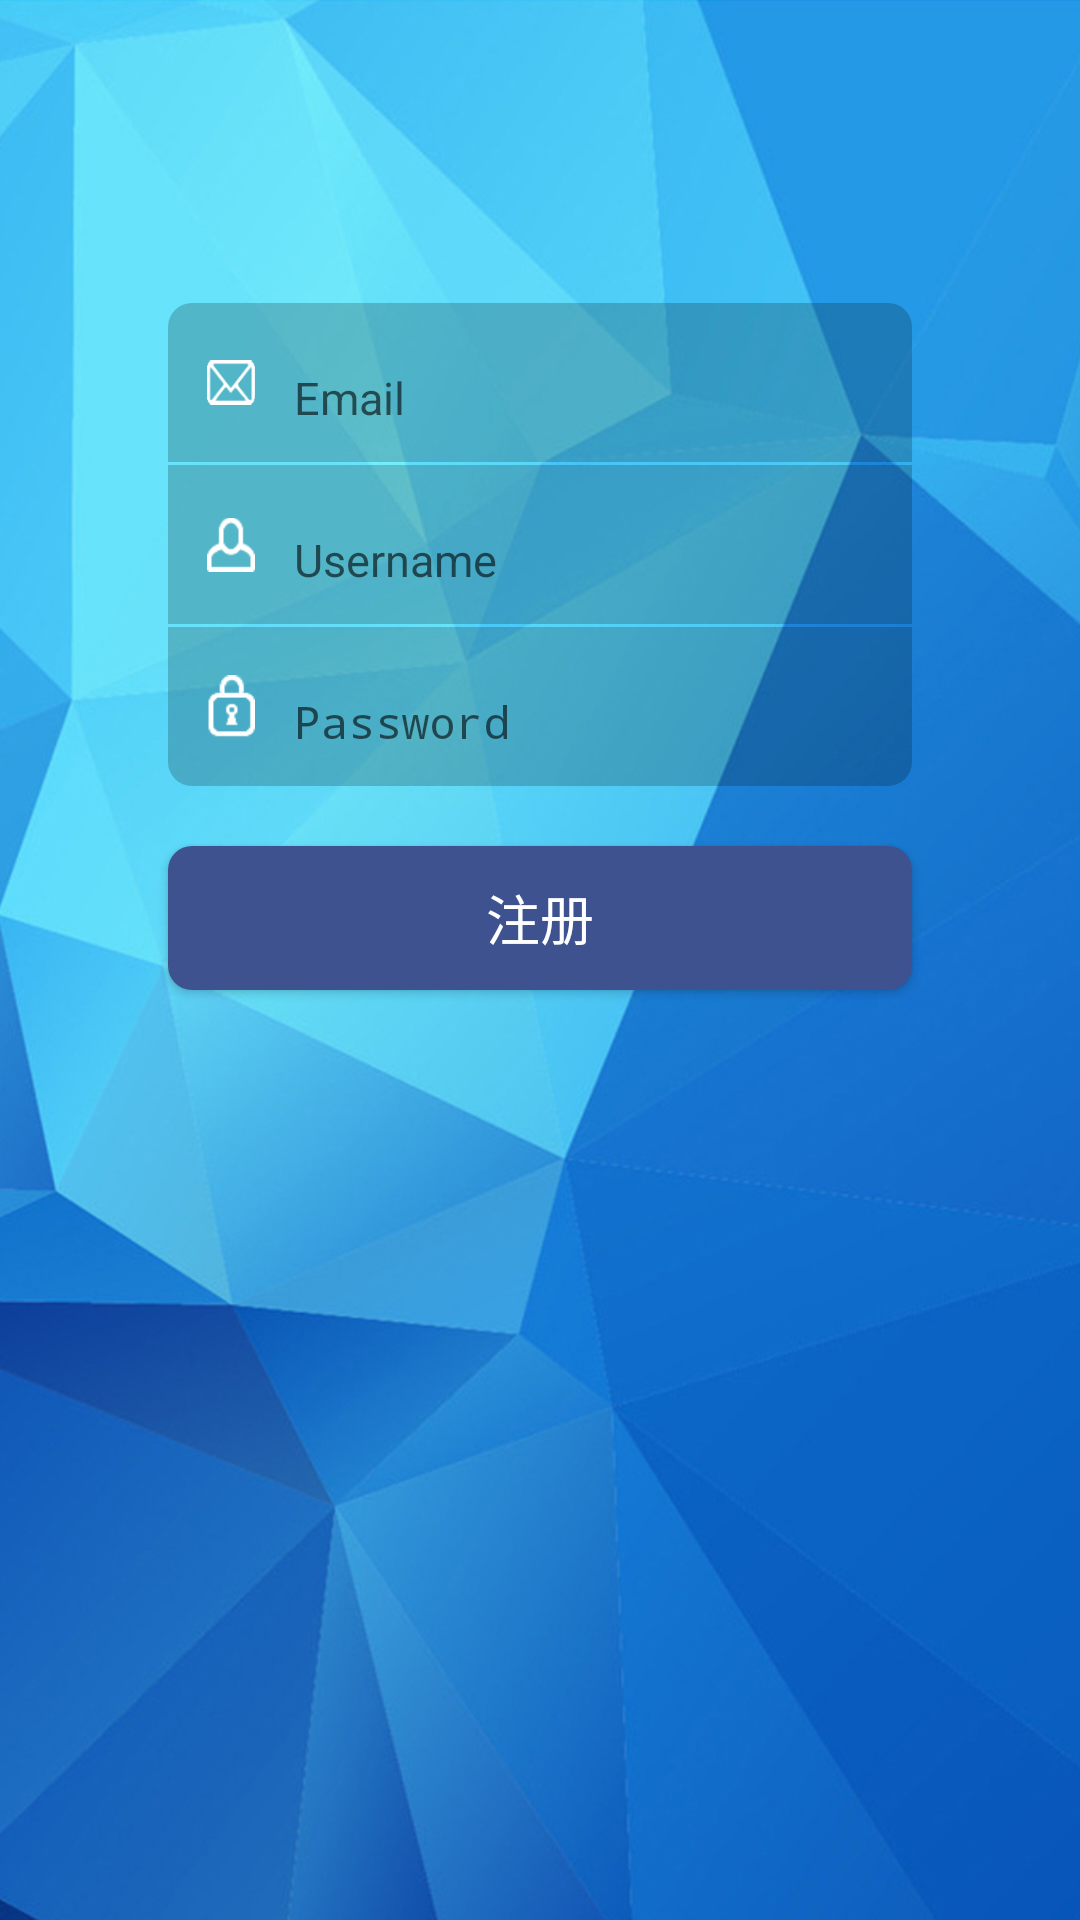

Icons on this 1080px×1920px Android screen, each with the point to tap as (x=x, y=y):
psword: (x=231, y=706)
usr: (x=231, y=545)
